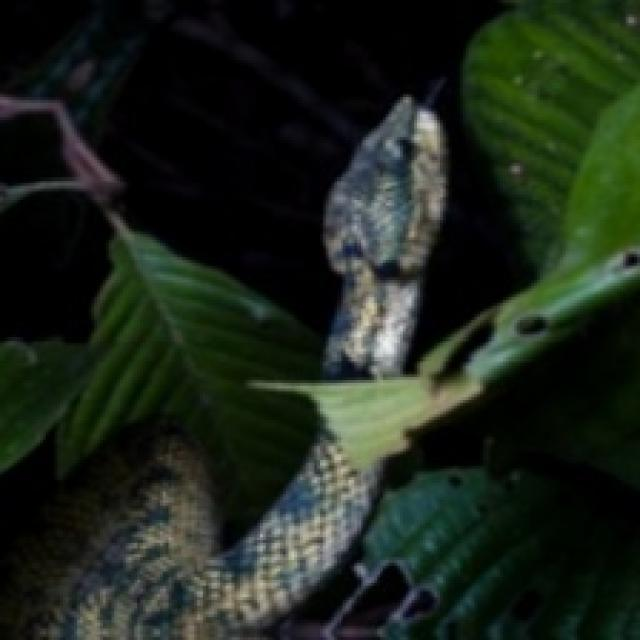north ph temple pitviper: (1, 100, 480, 640), (308, 350, 318, 368)
